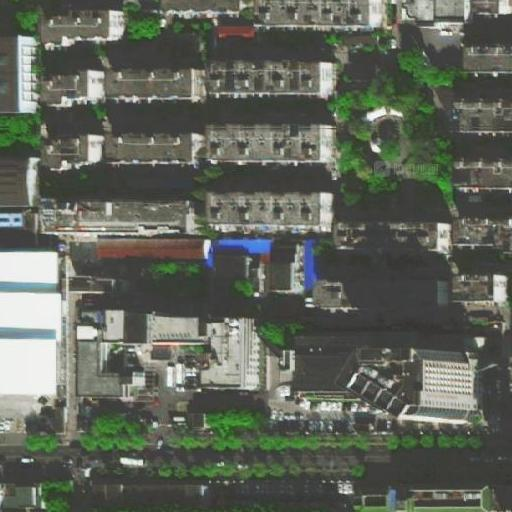building: (394, 359, 478, 432), (54, 201, 203, 233), (205, 124, 334, 160), (210, 191, 332, 227), (205, 319, 265, 392), (330, 275, 448, 309), (213, 63, 336, 95), (337, 220, 450, 251), (91, 237, 211, 263), (0, 32, 36, 115), (105, 130, 198, 160), (111, 70, 204, 100), (90, 479, 204, 503), (123, 309, 201, 344), (47, 10, 125, 44), (399, 485, 493, 511), (44, 68, 105, 104), (451, 97, 512, 131), (267, 244, 305, 295), (452, 217, 512, 249), (49, 132, 107, 164), (212, 236, 270, 266), (403, 1, 476, 24), (451, 274, 508, 303), (458, 39, 512, 69), (459, 158, 512, 185), (70, 268, 125, 291), (2, 484, 44, 512), (346, 490, 398, 512), (0, 208, 36, 238), (168, 1, 246, 14), (217, 16, 257, 37), (345, 59, 376, 83), (468, 317, 493, 334), (187, 411, 206, 429)
